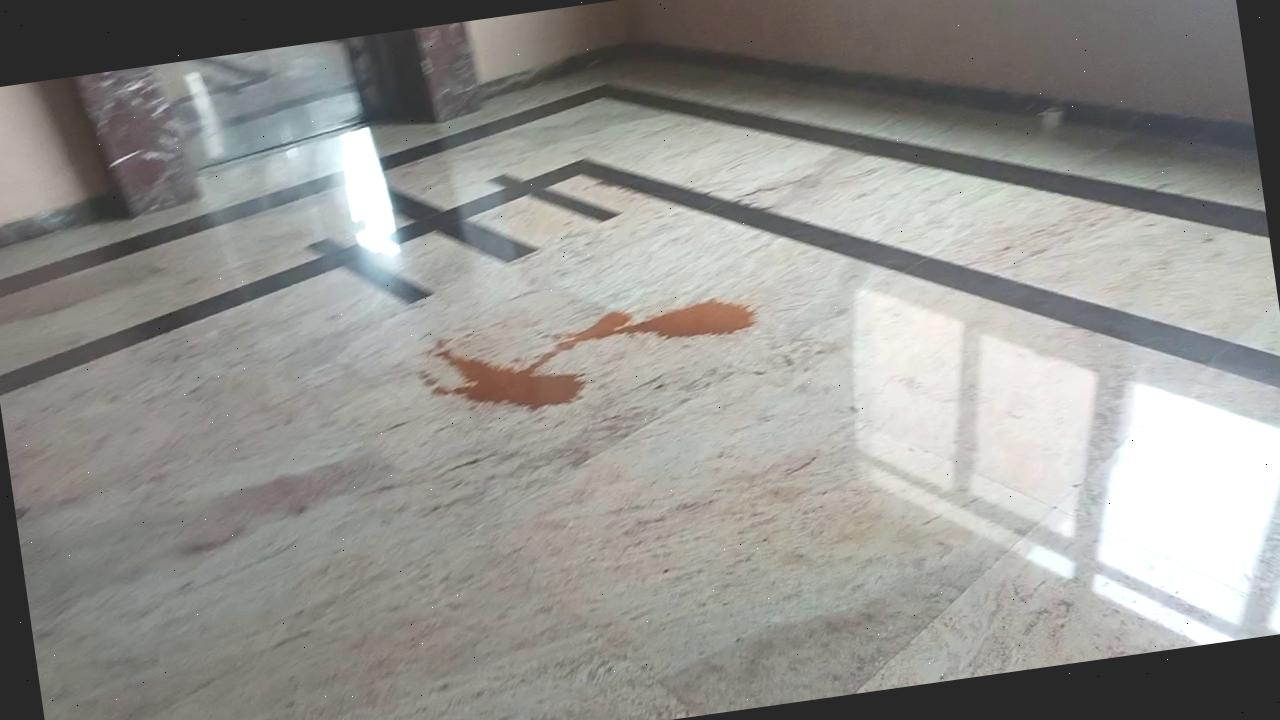dirty_floor: (419, 282, 762, 424)
